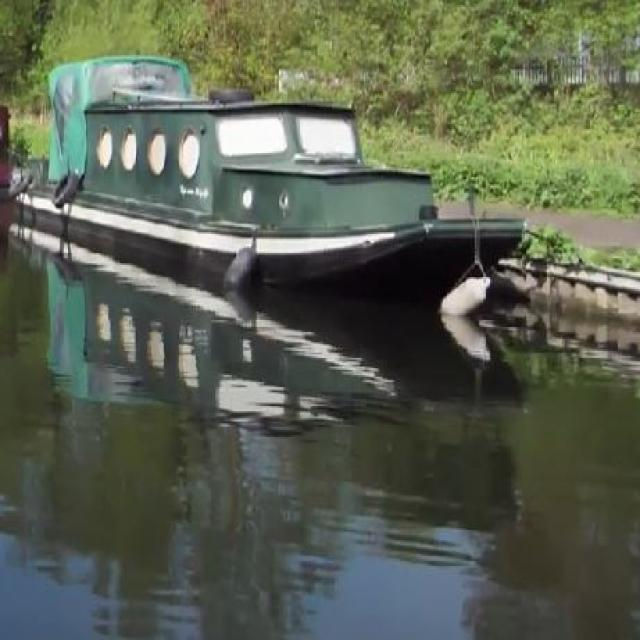boat: (15, 86, 521, 315)
